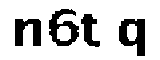6: (46, 5, 80, 52)
n: (9, 15, 43, 49)
q: (117, 12, 149, 60)
t: (80, 12, 103, 49)
